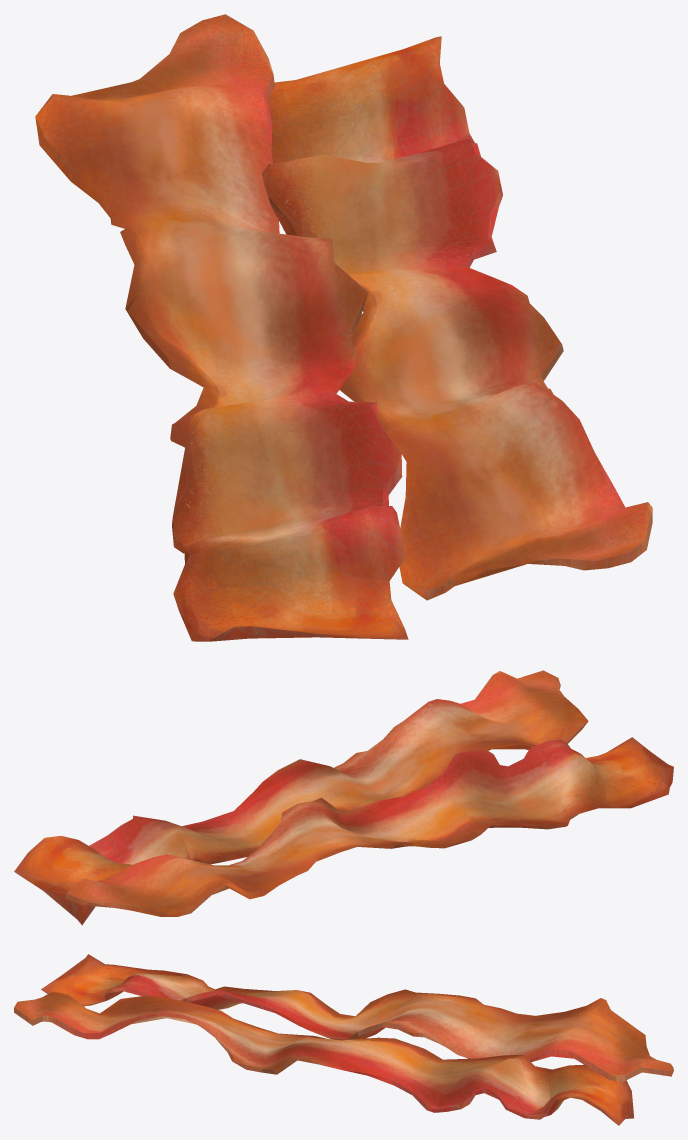
The model's file is daging.glb.
The picture shows the model from 3 angles, top to bottom: view 1: azimuth 30°, elevation 25°; view 2: azimuth 150°, elevation 25°; view 3: azimuth 270°, elevation 25°; orthographic projection. The views are drawn at different scales.
Parts seen in each view (by area): view 1: Group56763, Group56764; view 2: Group56763, Group56764; view 3: Group56763, Group56764.
Part boxes in pixels (x1,y1,x2,y2): Group56763: (35,14,408,641); Group56764: (261,36,652,600); Group56763: (65,737,673,916); Group56764: (14,670,588,925); Group56763: (41,954,673,1082); Group56764: (14,992,634,1125).
Bounding box in the file's own units: 111 × 17.49 × 170.
1 material, 1 textured.
